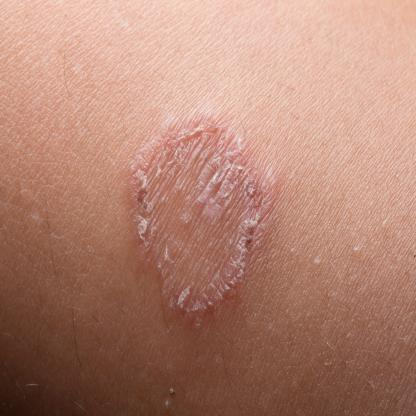Ringworm: (122, 98, 267, 333)
